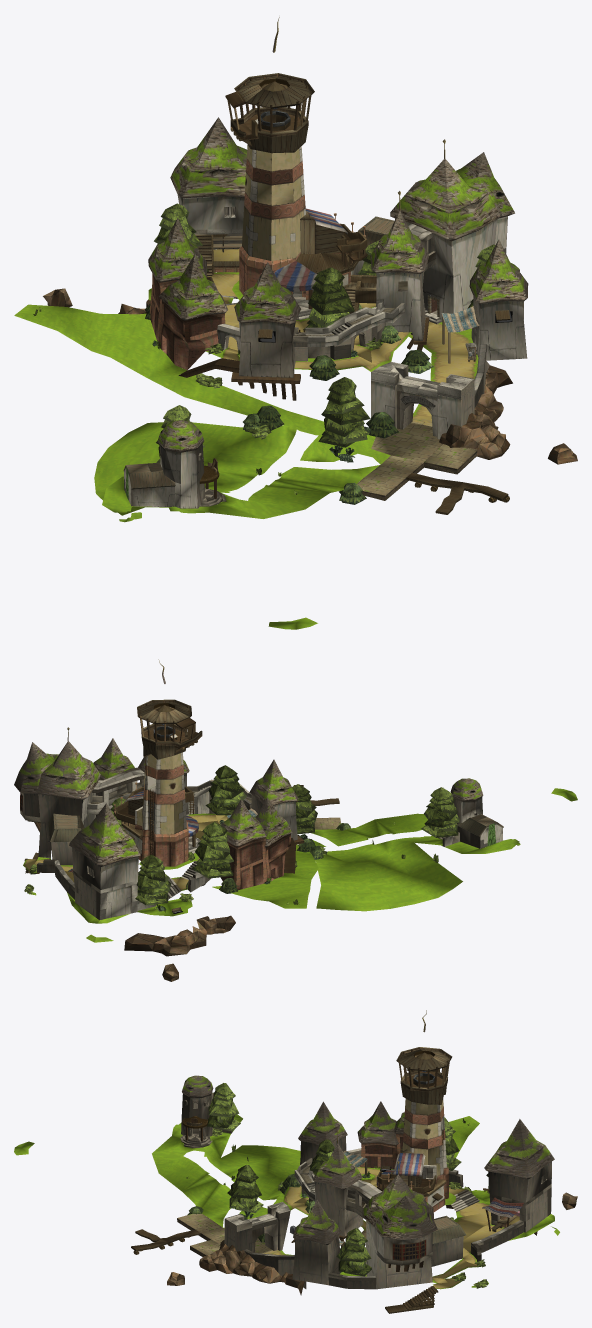
The model's file is island_1.glb.
3 views of the same model, one above another, from view 1: azimuth 30°, elevation 25°; view 2: azimuth 150°, elevation 25°; view 3: azimuth 270°, elevation 25° (orthographic). The views are drawn at different scales.
Visible parts, largest first — view 1: mesh-17, mesh-18, mesh-28, mesh-14-alpha, mesh-12, mesh-9, mesh-30, mesh-16, mesh-29, mesh-3, mesh-20, mesh-2-alpha (+5 smaller); view 2: mesh-28, mesh-17, mesh-18, mesh-14-alpha, mesh-16, mesh-12, mesh-20, mesh-9, mesh-23, mesh-15, mesh-3, mesh-30 (+3 smaller); view 3: mesh-17, mesh-18, mesh-28, mesh-14-alpha, mesh-12, mesh-30, mesh-9, mesh-20, mesh-3, mesh-29, mesh-7, mesh-16 (+8 smaller).
Boxes of the visible parts, x1,y1,x2,y2 form: mesh-17: [124, 195, 527, 508]; mesh-18: [148, 108, 528, 452]; mesh-28: [14, 280, 471, 522]; mesh-14-alpha: [154, 203, 495, 462]; mesh-12: [242, 17, 445, 426]; mesh-9: [195, 73, 476, 474]; mesh-30: [206, 249, 478, 416]; mesh-16: [150, 246, 350, 370]; mesh-29: [357, 422, 477, 500]; mesh-3: [206, 114, 510, 514]; mesh-20: [43, 288, 577, 464]; mesh-2-alpha: [144, 303, 433, 504]; mesh-28: [28, 813, 520, 942]; mesh-17: [20, 769, 502, 920]; mesh-18: [14, 724, 483, 866]; mesh-14-alpha: [24, 765, 459, 905]; mesh-16: [123, 765, 290, 890]; mesh-12: [67, 659, 186, 834]; mesh-20: [124, 779, 235, 981]; mesh-9: [128, 699, 228, 912]; mesh-23: [28, 813, 503, 841]; mesh-15: [114, 717, 304, 873]; mesh-3: [24, 723, 339, 873]; mesh-30: [23, 813, 227, 890]; mesh-17: [180, 1092, 551, 1289]; mesh-18: [182, 1071, 554, 1245]; mesh-28: [152, 1114, 559, 1287]; mesh-14-alpha: [206, 1083, 489, 1288]; mesh-12: [262, 1010, 519, 1255]; mesh-30: [282, 1167, 519, 1289]; mesh-9: [186, 1047, 516, 1247]; mesh-20: [167, 1192, 577, 1295]; mesh-3: [131, 1069, 519, 1313]; mesh-29: [177, 1214, 272, 1256]; mesh-7: [185, 1049, 509, 1271]; mesh-16: [360, 1106, 448, 1212].
Size of what is drawn, in the model's own units: 3.85 by 2.33 by 4.96.
Materials: 29 (29 with a texture image).
